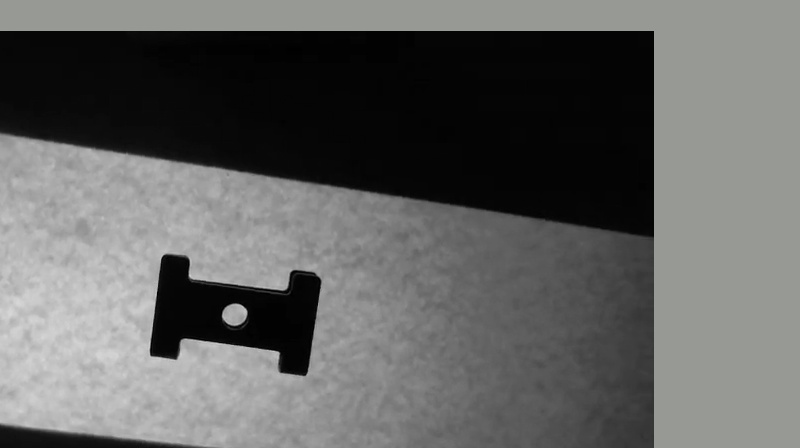O002: (147, 248, 326, 377)
